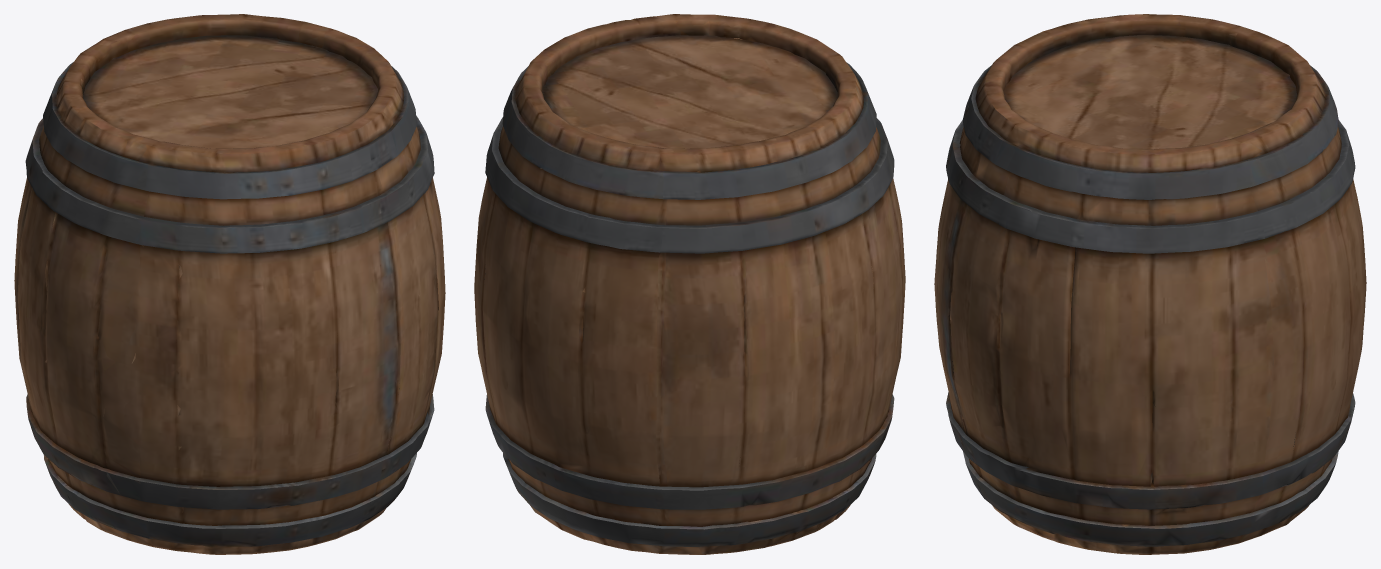
The model's file is Barrel.glb.
3 renders of one model, left to right at view 1: azimuth 30°, elevation 25°; view 2: azimuth 150°, elevation 25°; view 3: azimuth 270°, elevation 25°, orthographic.
Visible parts, largest first — view 1: Barrel; view 2: Barrel; view 3: Barrel.
Part boxes in pixels (x1,y1,x2,y2): Barrel: [14, 14, 445, 554]; Barrel: [474, 14, 905, 554]; Barrel: [934, 14, 1366, 554].
Size of the model in its own units: 1.11 by 1.14 by 1.11.
1 material, 1 textured.
